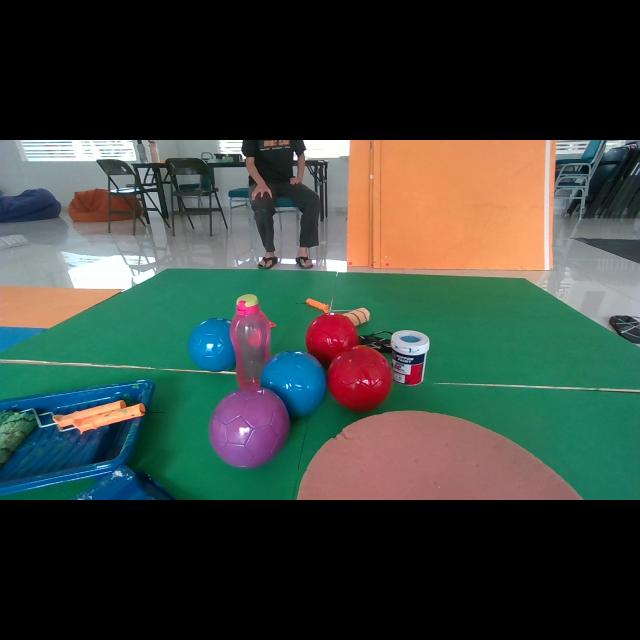B: (260, 350, 326, 416), (188, 318, 236, 371)
P: (209, 386, 290, 468)
R: (328, 345, 392, 411), (305, 312, 359, 366)
